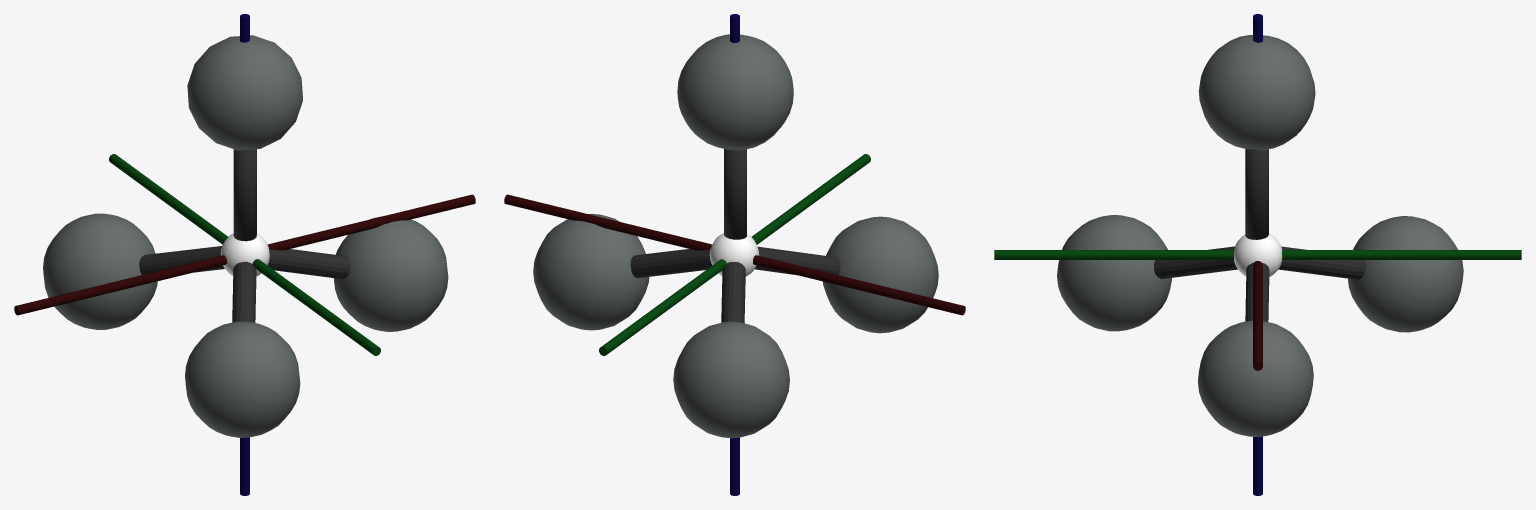
Rendered from trpev_tetra.obj.
The picture shows the model from 3 angles, left to right: view 1: azimuth 30°, elevation 25°; view 2: azimuth 150°, elevation 25°; view 3: azimuth 270°, elevation 25°; orthographic projection.
Parts seen in each view (by area): view 1: ShapeCylinder.002, ShapeSphere.008_ShapeSphere.010, ShapeSphere.009_ShapeSphere.011, ShapeSphere.010_ShapeSphere.012, Cylinder_004_001.001_Cylinder.019, ShapeCylinder.012_ShapeCylinder.022, ShapeCylinder.008_ShapeCylinder.000, ShapeCylinder.013_ShapeCylinder.023, ShapeSphere.007_ShapeSphere.009; view 2: ShapeCylinder.002, ShapeSphere.010_ShapeSphere.012, ShapeSphere.009_ShapeSphere.011, ShapeSphere.008_ShapeSphere.010, Cylinder_004_001.001_Cylinder.019, ShapeCylinder.012_ShapeCylinder.022, ShapeCylinder.013_ShapeCylinder.023, ShapeSphere.007_ShapeSphere.009, ShapeCylinder.008_ShapeCylinder.000; view 3: ShapeCylinder.002, ShapeSphere.009_ShapeSphere.011, ShapeSphere.010_ShapeSphere.012, ShapeSphere.008_ShapeSphere.010, Cylinder_004_001.001_Cylinder.019, ShapeSphere.007_ShapeSphere.009, ShapeCylinder.013_ShapeCylinder.023, ShapeCylinder.008_ShapeCylinder.000, ShapeCylinder.012_ShapeCylinder.022.
Part boxes in pixels (x1,y1,x2,y2): ShapeCylinder.002: [187, 35, 302, 241]; ShapeSphere.008_ShapeSphere.010: [185, 321, 300, 437]; ShapeSphere.009_ShapeSphere.011: [333, 216, 448, 331]; ShapeSphere.010_ShapeSphere.012: [43, 213, 157, 329]; Cylinder_004_001.001_Cylinder.019: [14, 14, 475, 495]; ShapeCylinder.012_ShapeCylinder.022: [267, 249, 350, 279]; ShapeCylinder.008_ShapeCylinder.000: [232, 261, 256, 322]; ShapeCylinder.013_ShapeCylinder.023: [139, 246, 224, 274]; ShapeSphere.007_ShapeSphere.009: [220, 233, 269, 276]; ShapeCylinder.002: [677, 34, 793, 239]; ShapeSphere.010_ShapeSphere.012: [673, 321, 789, 438]; ShapeSphere.009_ShapeSphere.011: [533, 214, 649, 330]; ShapeSphere.008_ShapeSphere.010: [822, 216, 938, 333]; Cylinder_004_001.001_Cylinder.019: [504, 14, 965, 495]; ShapeCylinder.012_ShapeCylinder.022: [630, 249, 712, 277]; ShapeCylinder.013_ShapeCylinder.023: [721, 262, 745, 323]; ShapeSphere.007_ShapeSphere.009: [709, 233, 759, 276]; ShapeCylinder.008_ShapeCylinder.000: [755, 246, 840, 274]; ShapeCylinder.002: [1198, 35, 1315, 239]; ShapeSphere.009_ShapeSphere.011: [1198, 320, 1313, 436]; ShapeSphere.010_ShapeSphere.012: [1348, 216, 1463, 332]; ShapeSphere.008_ShapeSphere.010: [1057, 215, 1171, 331]; Cylinder_004_001.001_Cylinder.019: [994, 14, 1521, 495]; ShapeSphere.007_ShapeSphere.009: [1234, 233, 1282, 276]; ShapeCylinder.013_ShapeCylinder.023: [1278, 246, 1365, 279]; ShapeCylinder.008_ShapeCylinder.000: [1154, 246, 1237, 278]; ShapeCylinder.012_ShapeCylinder.022: [1245, 262, 1269, 321].
Size of the model in its own units: 12.54 by 12.54 by 12.54.
